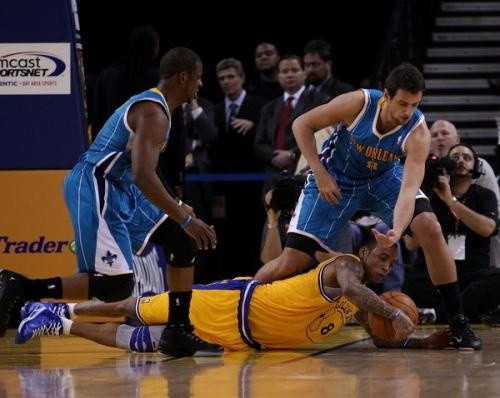falling: (6, 206, 441, 358)
